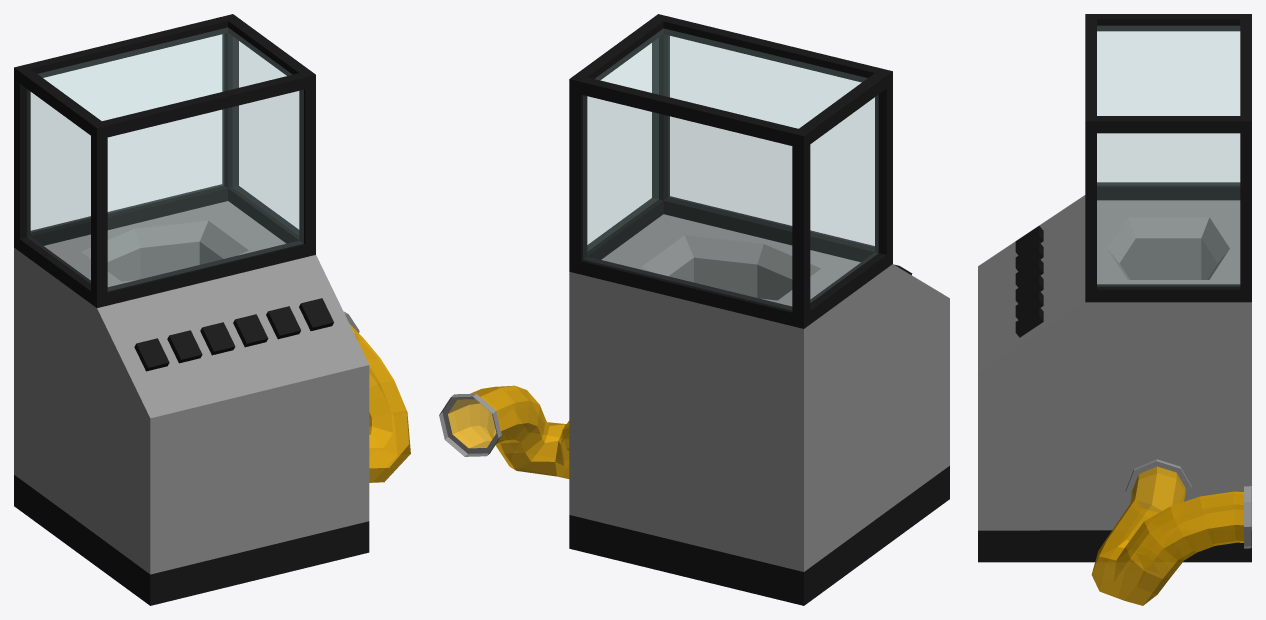
The model's file is g_machine_dispenser.FBX.
3 views of the same model, side by side, from view 1: azimuth 30°, elevation 25°; view 2: azimuth 150°, elevation 25°; view 3: azimuth 270°, elevation 25° (orthographic). The views are drawn at different scales.
Parts seen in each view (by area): view 1: obj_machine_dispenser; view 2: obj_machine_dispenser; view 3: obj_machine_dispenser.
Part boxes in pixels (left/top/right/bottom): obj_machine_dispenser: left=14, top=14, right=410, bottom=605; obj_machine_dispenser: left=439, top=14, right=949, bottom=605; obj_machine_dispenser: left=978, top=14, right=1251, bottom=605.
Size of the model in its own units: 11.16 by 13.69 by 7.71.
